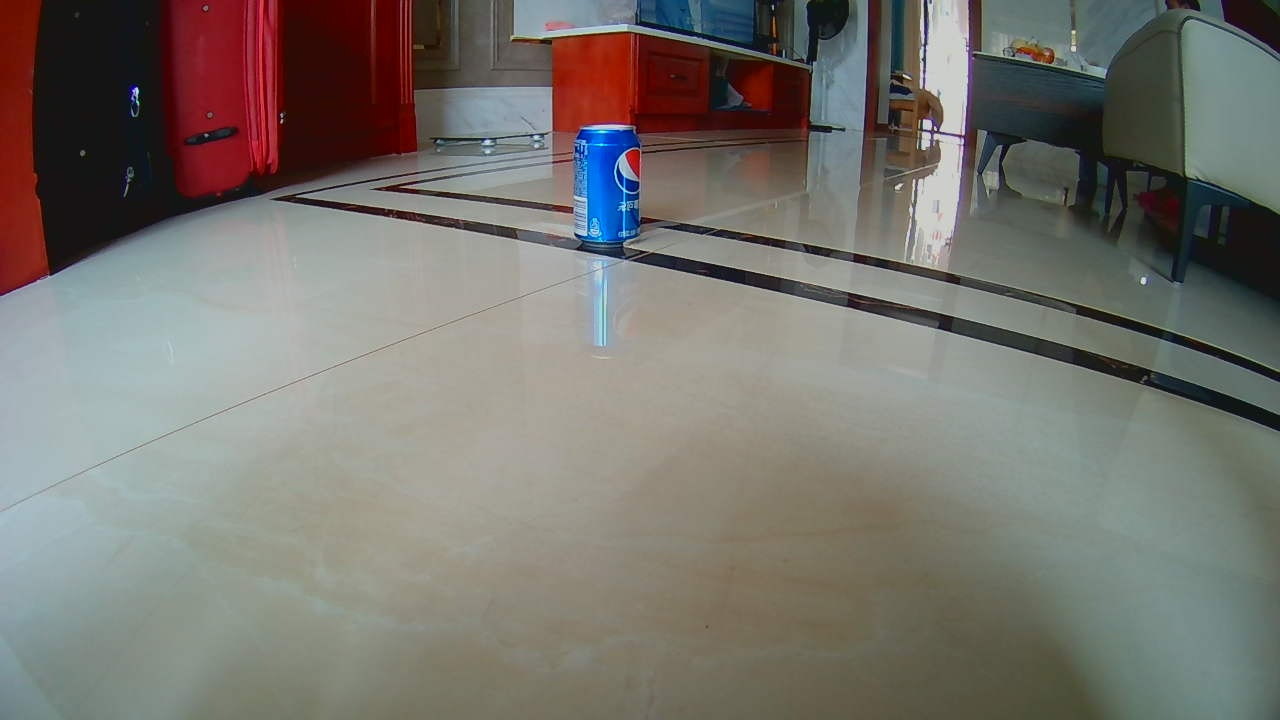pessi: (572, 124, 643, 245)
